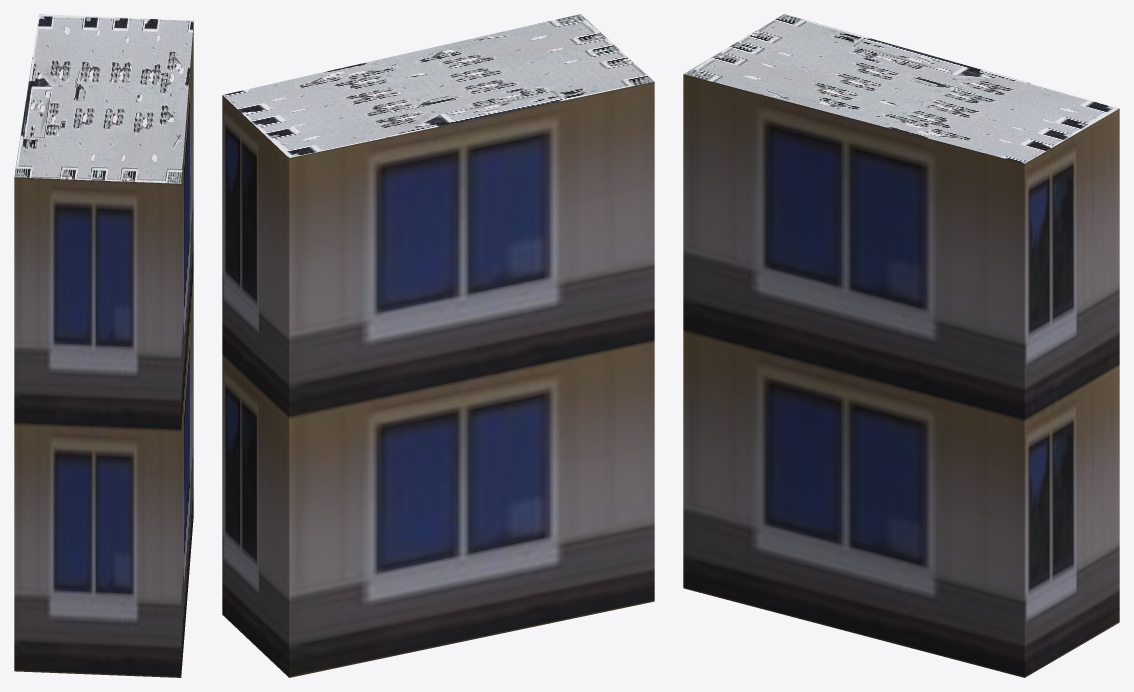
File: ResTex__3849.fbx
3 views of the same model, side by side, from view 1: azimuth 30°, elevation 25°; view 2: azimuth 150°, elevation 25°; view 3: azimuth 270°, elevation 25° (orthographic). The views are drawn at different scales.
Parts seen in each view (by area): view 1: CityEngineMaterial_5_m, CityEngineMaterial_m; view 2: CityEngineMaterial_5_m, CityEngineMaterial_m; view 3: CityEngineMaterial_5_m, CityEngineMaterial_m.
Boxes of the visible parts, box(x1,y1,x2,y2) form: CityEngineMaterial_5_m: box(14, 24, 193, 677); CityEngineMaterial_m: box(14, 14, 193, 183); CityEngineMaterial_5_m: box(222, 82, 654, 677); CityEngineMaterial_m: box(223, 14, 654, 157); CityEngineMaterial_5_m: box(683, 74, 1119, 677); CityEngineMaterial_m: box(683, 14, 1119, 163).
Size of the model in its own units: 3.75 by 6 by 4.62.
Materials: 2 (2 with a texture image).
